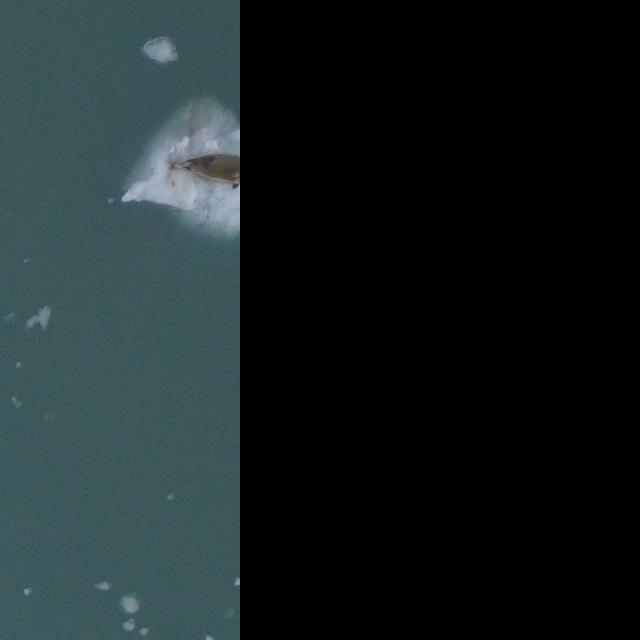seal: (162, 145, 240, 192)
